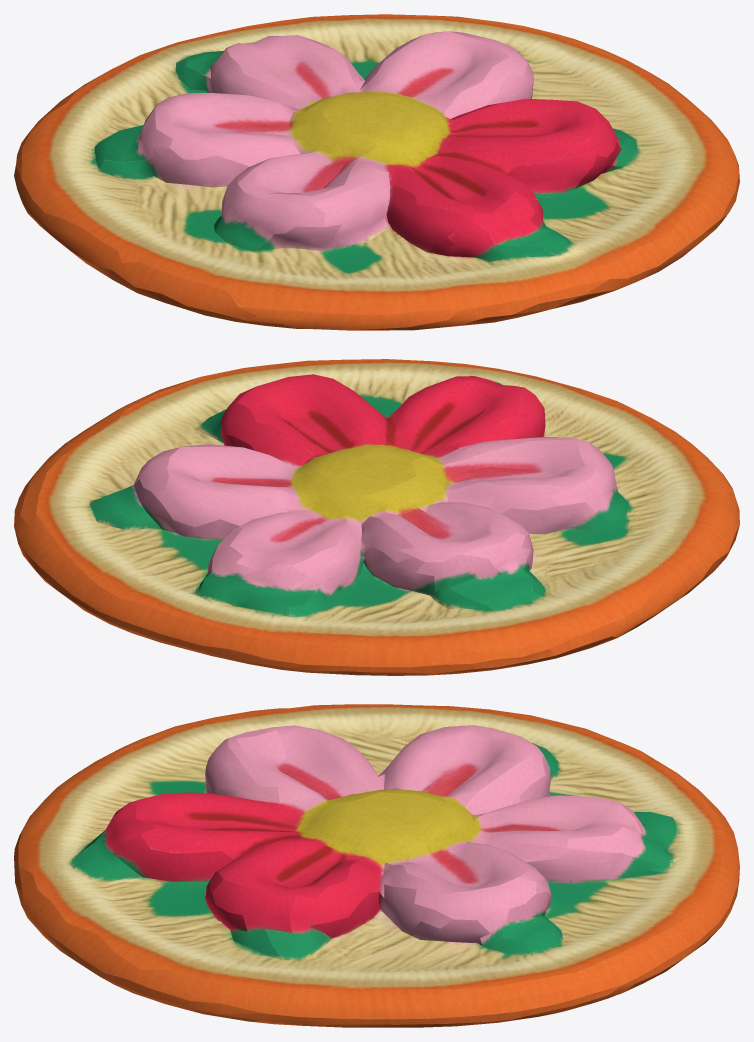
File: rug.glb
The picture shows the model from 3 angles, top to bottom: view 1: azimuth 30°, elevation 25°; view 2: azimuth 150°, elevation 25°; view 3: azimuth 270°, elevation 25°; orthographic projection. The views are drawn at different scales.
Parts seen in each view (by area): view 1: geometry_0; view 2: geometry_0; view 3: geometry_0.
Boxes of the visible parts, left/top/right/bottom form: geometry_0: left=14, top=14, right=739, bottom=330; geometry_0: left=14, top=359, right=739, bottom=675; geometry_0: left=14, top=704, right=739, bottom=1027.
Bounding box in the file's own units: 1 × 0.1103 × 0.9995.
1 material, 1 textured.
